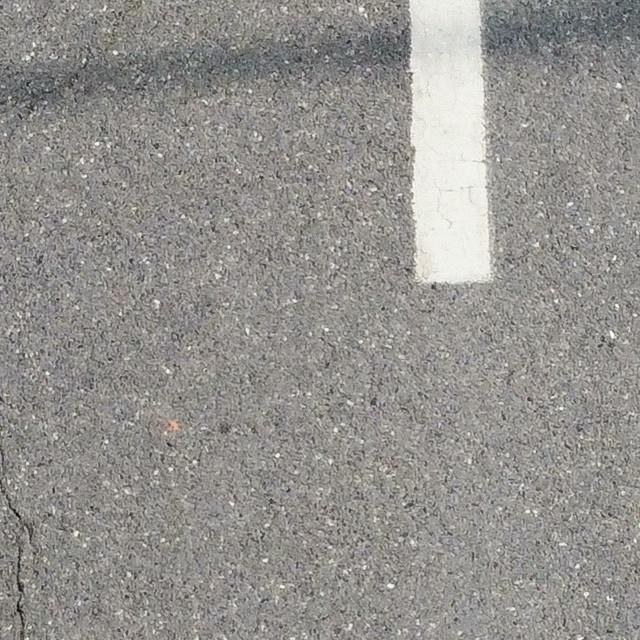LongitudinalCrack: (1, 444, 38, 640)
